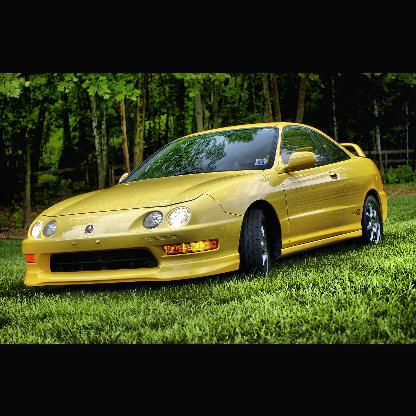Acura Integra Type R 2001: (25, 122, 390, 286)
